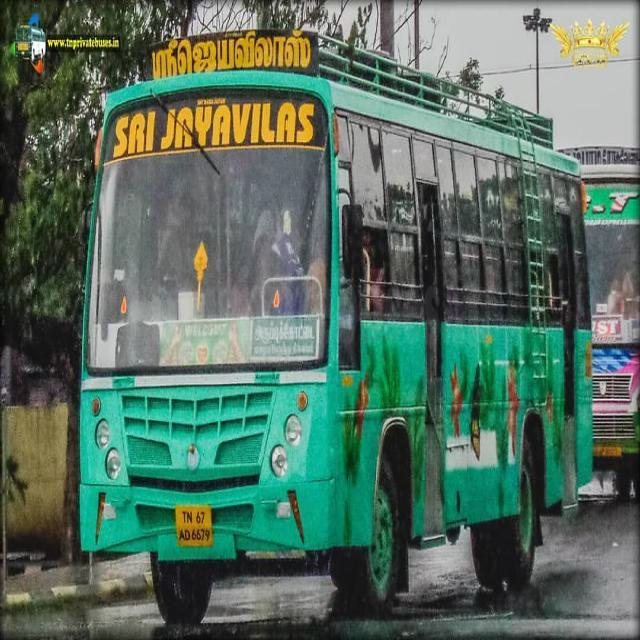Bus: (73, 20, 594, 619), (580, 138, 640, 487)
